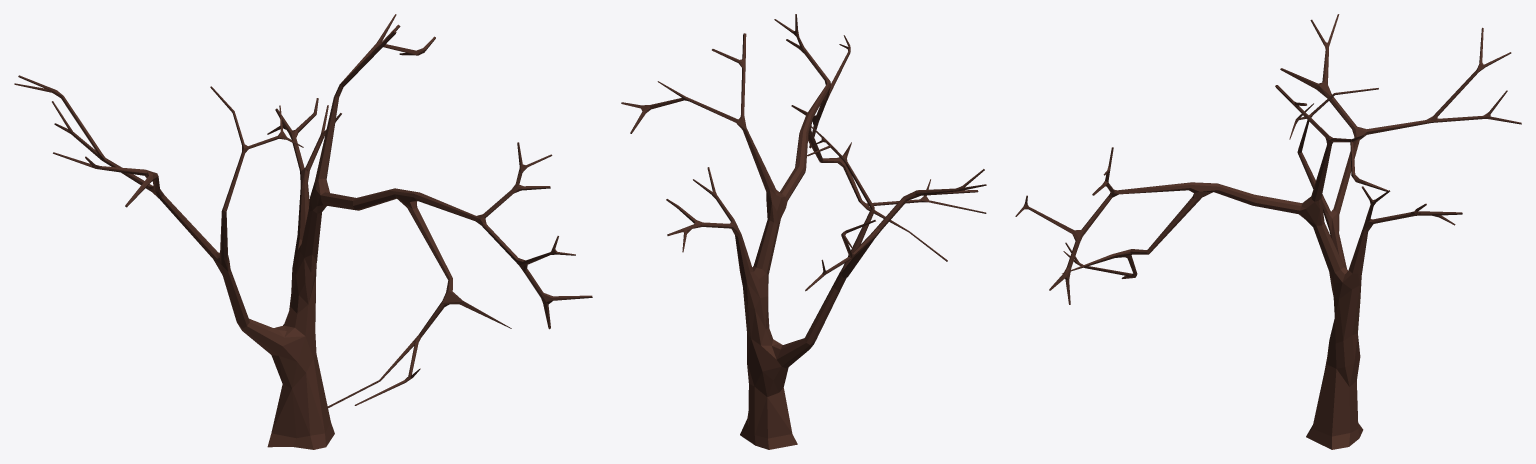
File: tree_no leaves_01.fbx
The picture shows the model from 3 angles, left to right: view 1: azimuth 30°, elevation 25°; view 2: azimuth 150°, elevation 25°; view 3: azimuth 270°, elevation 25°; orthographic projection. The views are drawn at different scales.
Visible parts, largest first — view 1: Cube; view 2: Cube; view 3: Cube.
Boxes of the visible parts, bbox=[...] form: Cube: bbox=[14, 14, 592, 449]; Cube: bbox=[621, 14, 986, 449]; Cube: bbox=[1015, 14, 1521, 449].
Bounding box in the file's own units: 750 × 755 × 914.
